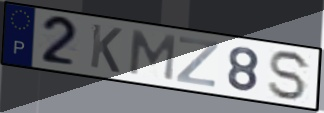2: (37, 15, 83, 70)
8: (227, 45, 261, 92)
K: (88, 22, 124, 76)
M: (126, 28, 178, 83)
S: (267, 49, 314, 102)
Z: (174, 35, 221, 89)
